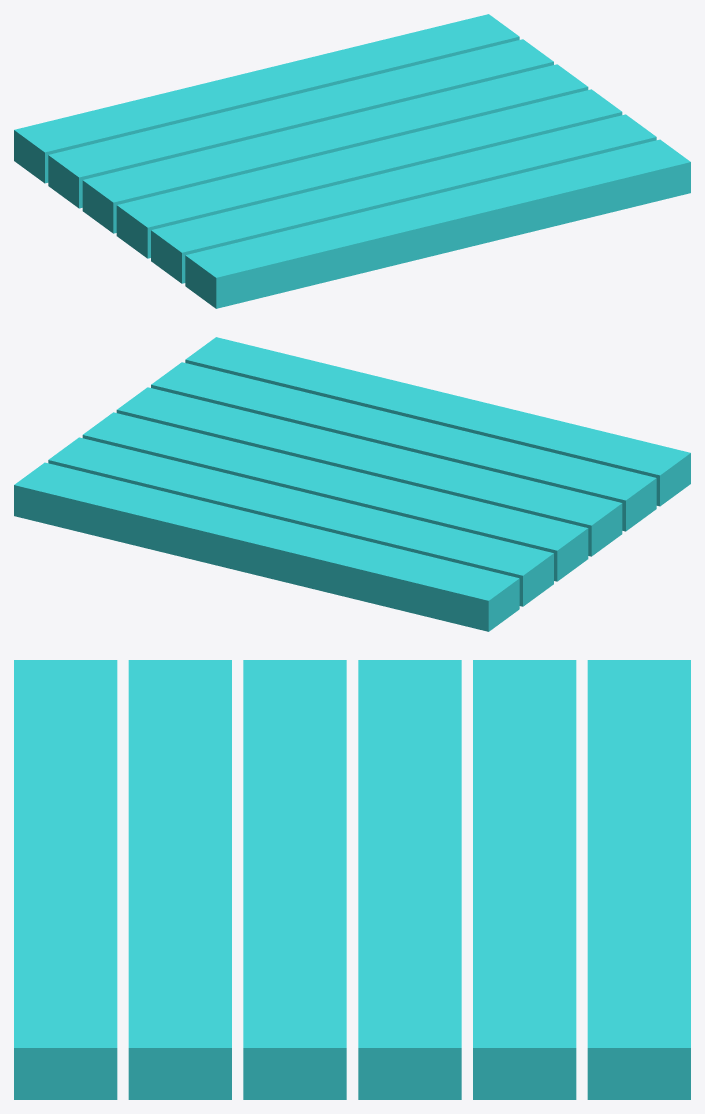
The model's file is exterior-siding.glb.
3 views of the same model, one above another, from view 1: azimuth 30°, elevation 25°; view 2: azimuth 150°, elevation 25°; view 3: azimuth 270°, elevation 25° (orthographic). The views are drawn at different scales.
Parts seen in each view (by area): view 1: world; view 2: world; view 3: world.
Boxes of the visible parts, x1,y1,x2,y2 form: world: (14,14,690,308); world: (14,337,690,631); world: (14,660,690,1099).
Bounding box in the file's own units: 1.6 × 0.1 × 1.18.
